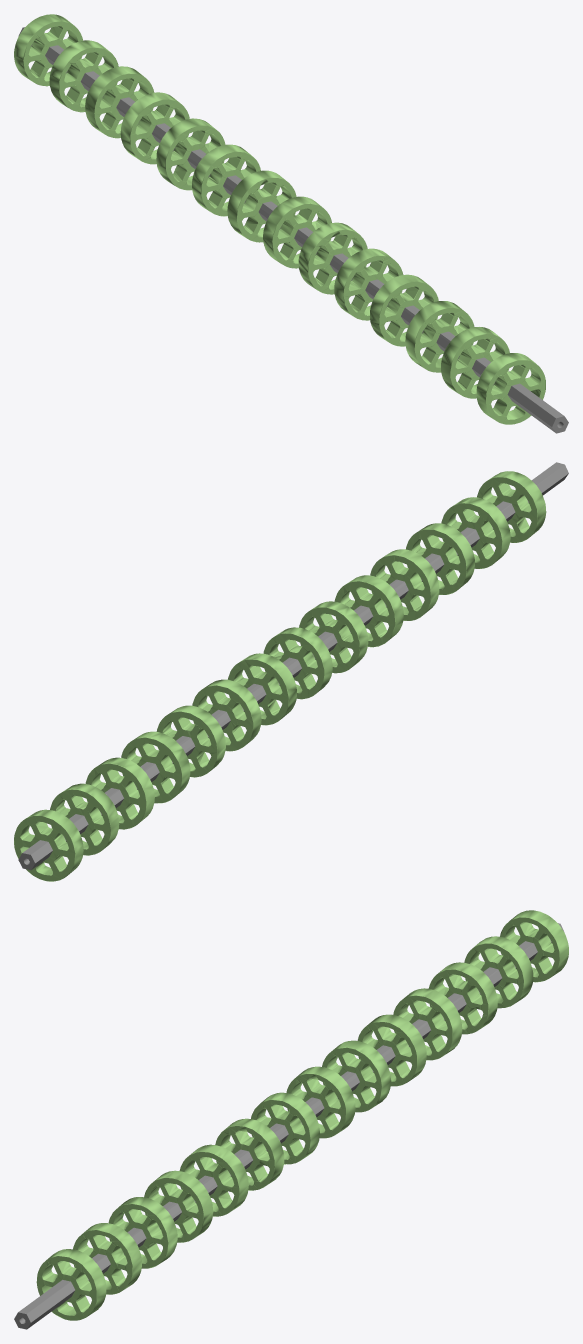
Rendered from IntakeWheels.dae.
3 renders of one model, top to bottom at view 1: azimuth 30°, elevation 25°; view 2: azimuth 150°, elevation 25°; view 3: azimuth 330°, elevation 25°, orthographic.
Parts seen in each view (by area): view 1: IntakeWheels; view 2: IntakeWheels; view 3: IntakeWheels.
Part boxes in pixels (bbox=[...]): IntakeWheels: bbox=[14, 14, 568, 433]; IntakeWheels: bbox=[14, 462, 568, 881]; IntakeWheels: bbox=[14, 910, 568, 1329].
Bounding box in the file's own units: 0.0509 × 0.762 × 0.0509.
